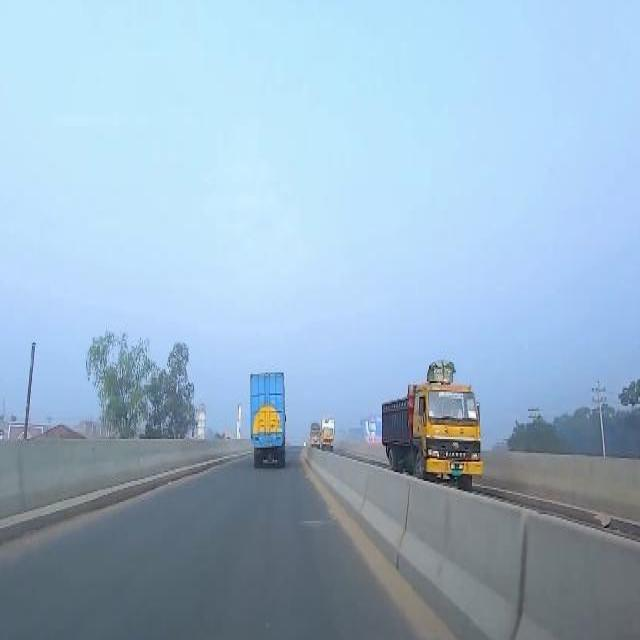truck: (380, 355, 482, 486), (250, 370, 286, 464), (320, 414, 334, 445), (310, 419, 318, 443)
